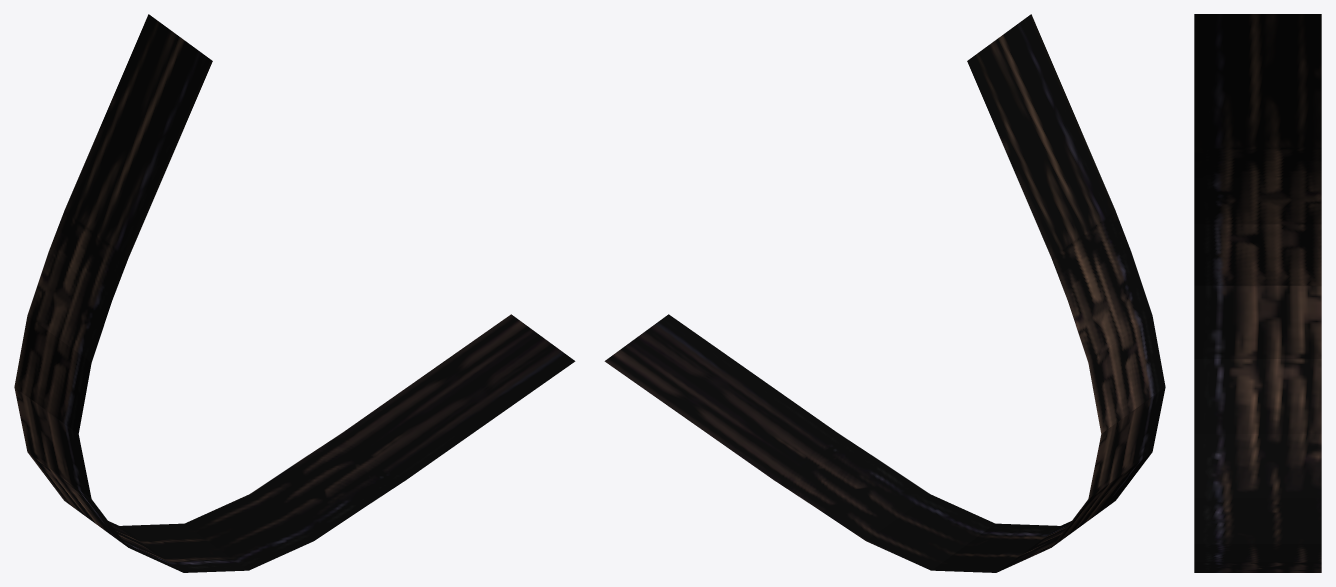
Rendered from collide_ColumnCorner2.obj.
3 renders of one model, left to right at view 1: azimuth 30°, elevation 25°; view 2: azimuth 150°, elevation 25°; view 3: azimuth 270°, elevation 25°, orthographic.
Visible parts, largest first — view 1: collide_ColumnCorner2; view 2: collide_ColumnCorner2; view 3: collide_ColumnCorner2.
Part boxes in pixels (left/top/right/bottom): collide_ColumnCorner2: left=14, top=14, right=575, bottom=572; collide_ColumnCorner2: left=604, top=14, right=1165, bottom=572; collide_ColumnCorner2: left=1194, top=14, right=1321, bottom=572.
Size of the model in its own units: 199 by 198 by 44.53.
